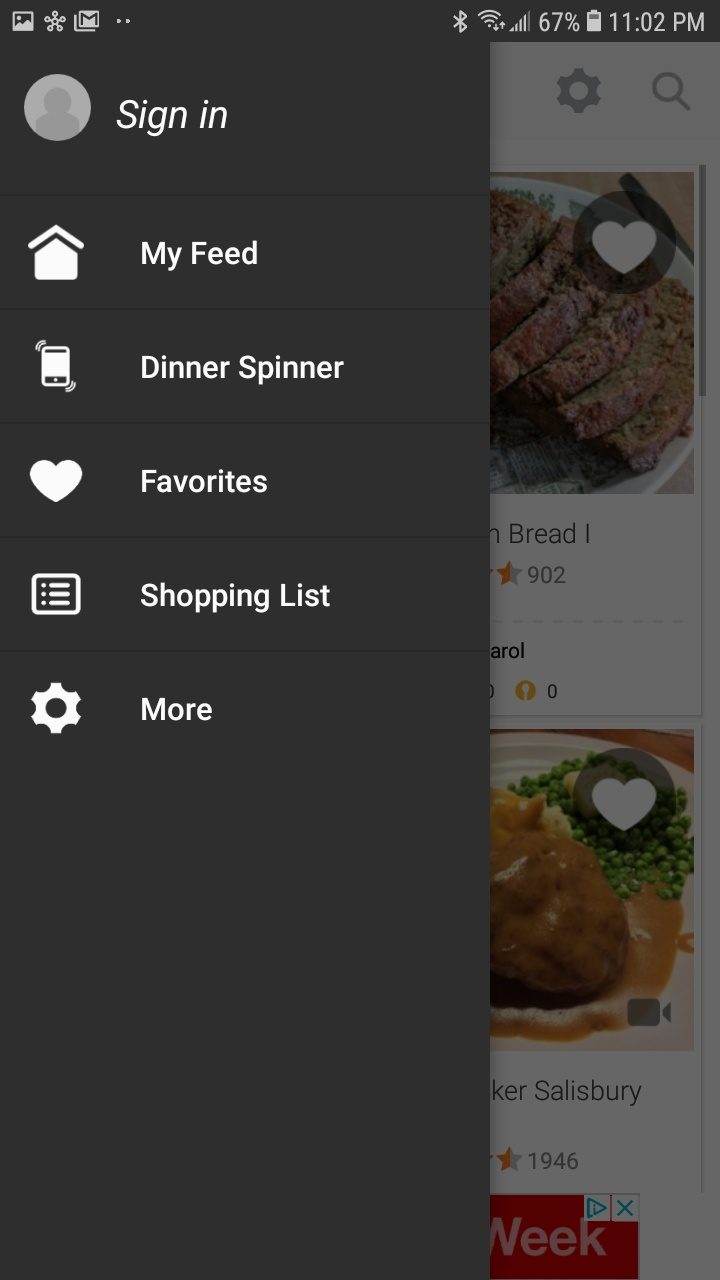Drawer: (1, 43, 490, 1280)
Icon: (24, 74, 92, 143), (28, 224, 86, 281), (31, 682, 83, 735), (30, 460, 84, 503), (31, 573, 82, 616)
Image: (35, 340, 77, 393)
Text: (142, 355, 345, 386), (141, 582, 331, 614), (117, 100, 228, 138), (142, 240, 258, 272), (142, 469, 268, 494), (142, 697, 213, 722)
UpperTaskBar: (1, 1, 720, 43)
